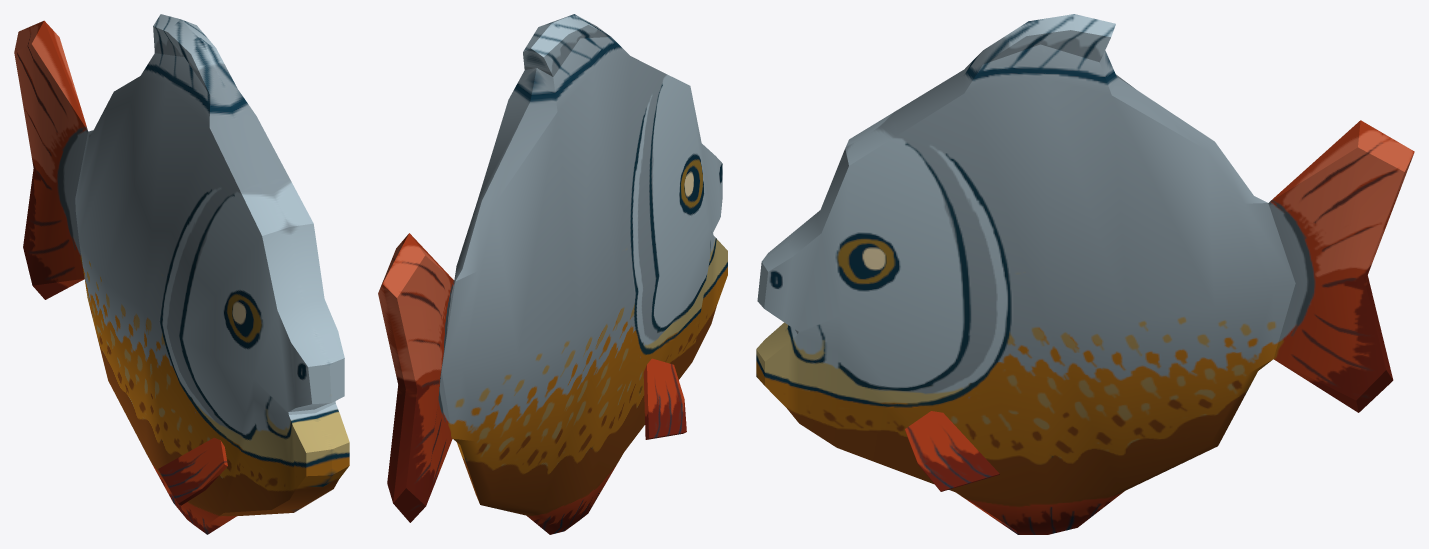
The model's file is Pacu.fbx.
The picture shows the model from 3 angles, left to right: view 1: azimuth 30°, elevation 25°; view 2: azimuth 150°, elevation 25°; view 3: azimuth 270°, elevation 25°; orthographic projection. The views are drawn at different scales.
Visible parts, largest first — view 1: Cube; view 2: Cube; view 3: Cube.
Part boxes in pixels (bbox=[...]): Cube: bbox=[14, 14, 349, 534]; Cube: bbox=[378, 14, 727, 534]; Cube: bbox=[756, 14, 1414, 534].
Bounding box in the file's own units: 55.9 × 200 × 229.
